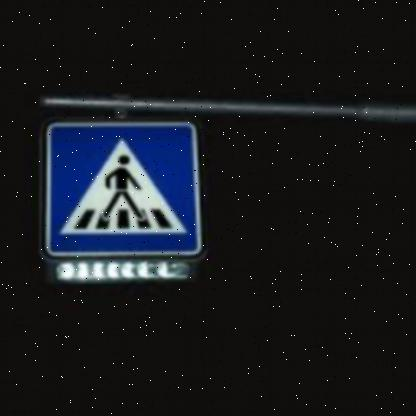Pedestrian Crossing: (54, 132, 193, 243)
